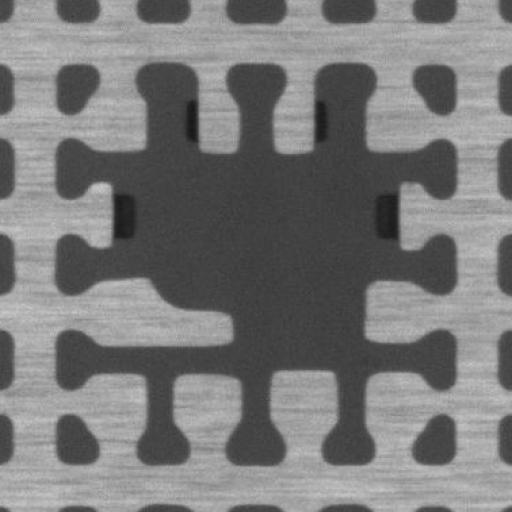NO_DIE: (56, 61, 459, 462)
